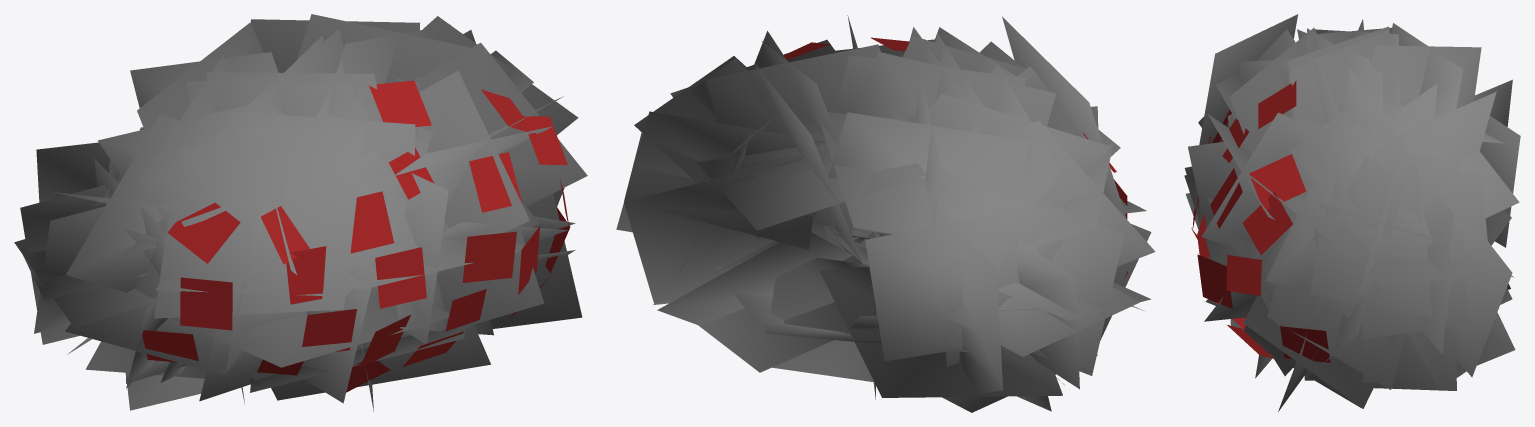
The model's file is SM_flowerbush_02.fbx.
3 views of the same model, side by side, from view 1: azimuth 30°, elevation 25°; view 2: azimuth 150°, elevation 25°; view 3: azimuth 270°, elevation 25° (orthographic). The views are drawn at different scales.
Visible parts, largest first — view 1: Plane280; view 2: Plane280; view 3: Plane280.
Part boxes in pixels (x1,y1,x2,y2): Plane280: (14, 14, 587, 411); Plane280: (616, 15, 1155, 412); Plane280: (1184, 14, 1520, 411).
Size of the model in its own units: 54.55 by 32.86 by 33.83.
